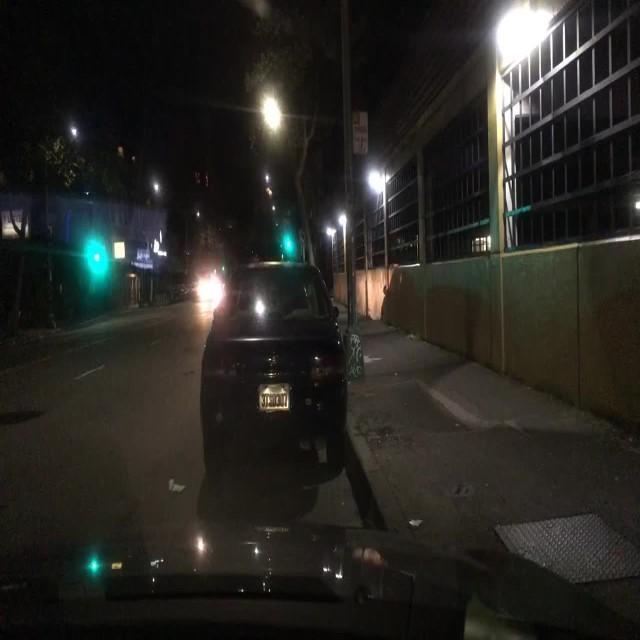normal: (187, 236, 386, 506)
